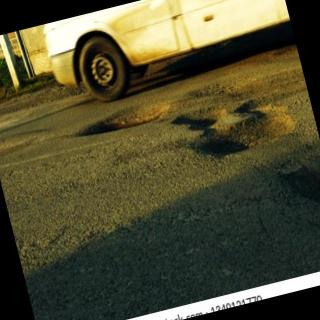pothole: (172, 81, 298, 157), (77, 99, 173, 137)
